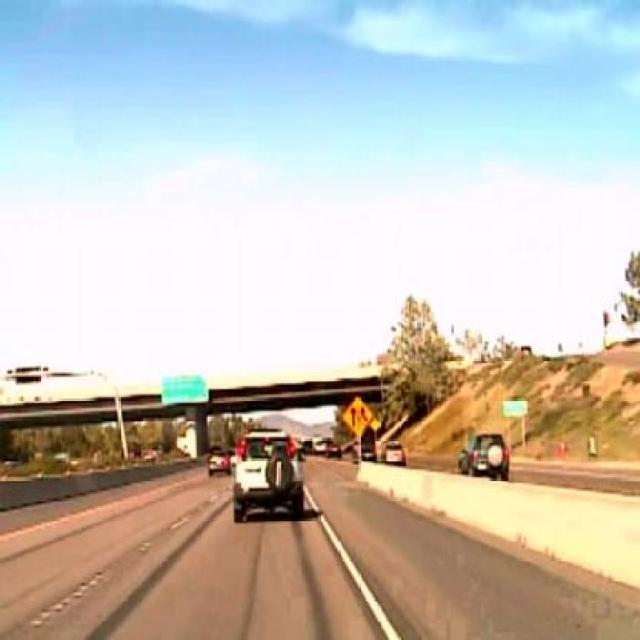addedLane: (340, 395, 373, 438)
